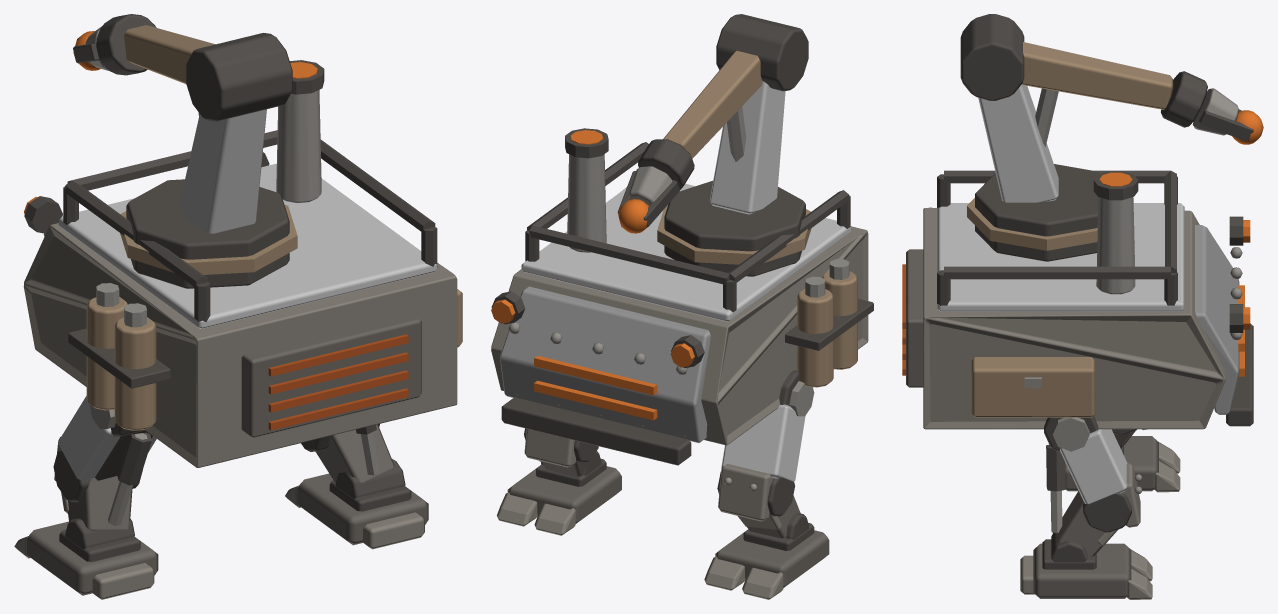
The model's file is crucible_rigger.glb.
3 views of the same model, side by side, from view 1: azimuth 30°, elevation 25°; view 2: azimuth 150°, elevation 25°; view 3: azimuth 270°, elevation 25° (orthographic). The views are drawn at different scales.
Visible parts, largest first — view 1: Body; view 2: Body; view 3: Body.
Part boxes in pixels (x1,y1,x2,y2): Body: (14, 14, 462, 599); Body: (491, 14, 873, 599); Body: (902, 14, 1263, 599).
Bounding box in the file's own units: 0.981 × 1.55 × 1.05.
